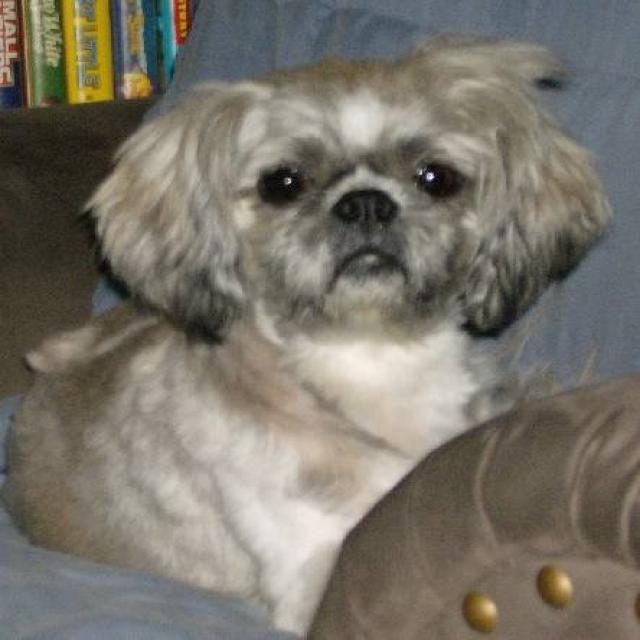dog: (0, 29, 613, 636)
